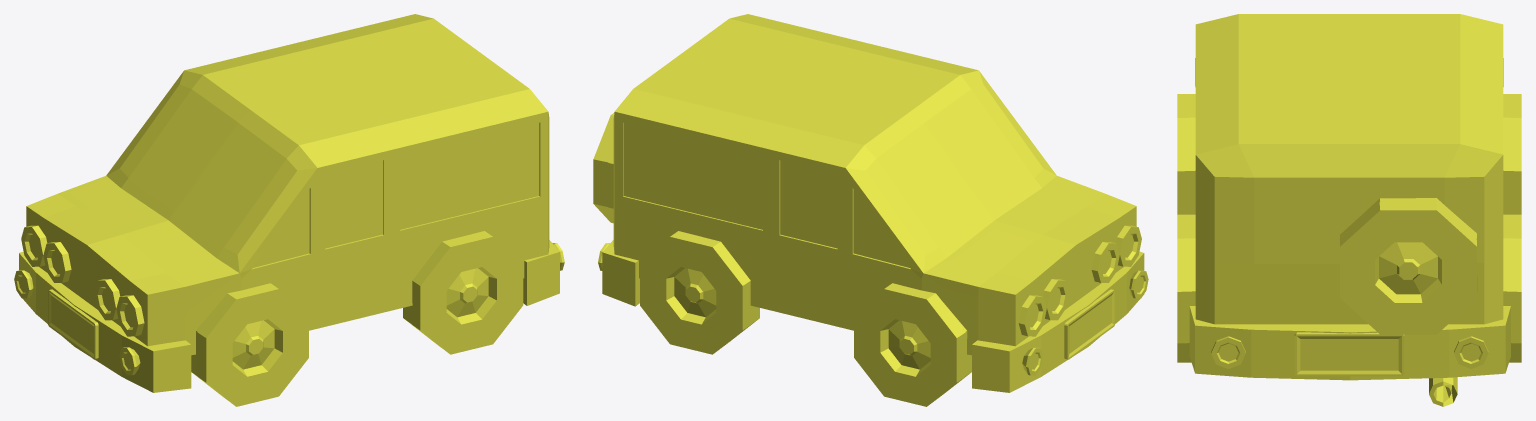
Rendered from car.fbx.
The picture shows the model from 3 angles, left to right: view 1: azimuth 30°, elevation 25°; view 2: azimuth 150°, elevation 25°; view 3: azimuth 270°, elevation 25°; orthographic projection. The views are drawn at different scales.
Visible parts, largest first — view 1: Cube; view 2: Cube; view 3: Cube.
Boxes of the visible parts, x1,y1,x2,y2 form: Cube: (14,14,564,406); Cube: (593,14,1148,406); Cube: (1177,14,1521,406).
Bounding box in the file's own units: 40.5 × 19.28 × 23.65.
